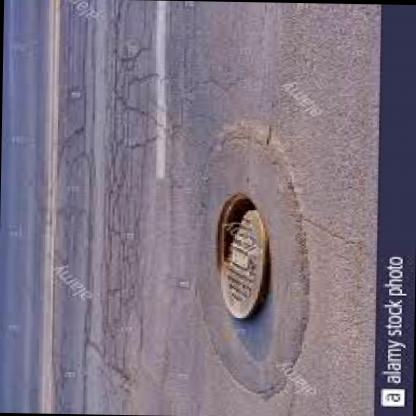manholes: (202, 182, 287, 326)
